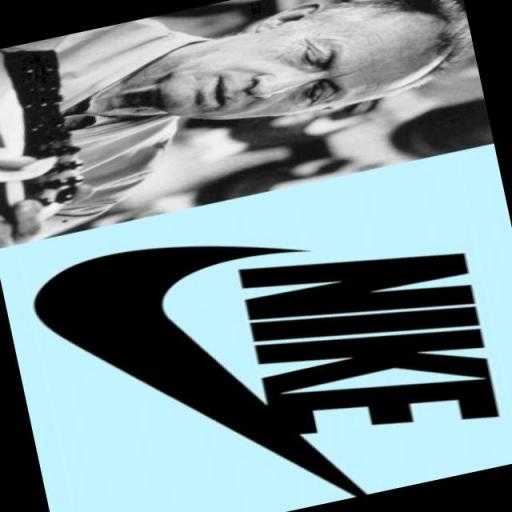Nike: (230, 221, 507, 468), (30, 230, 282, 501)
